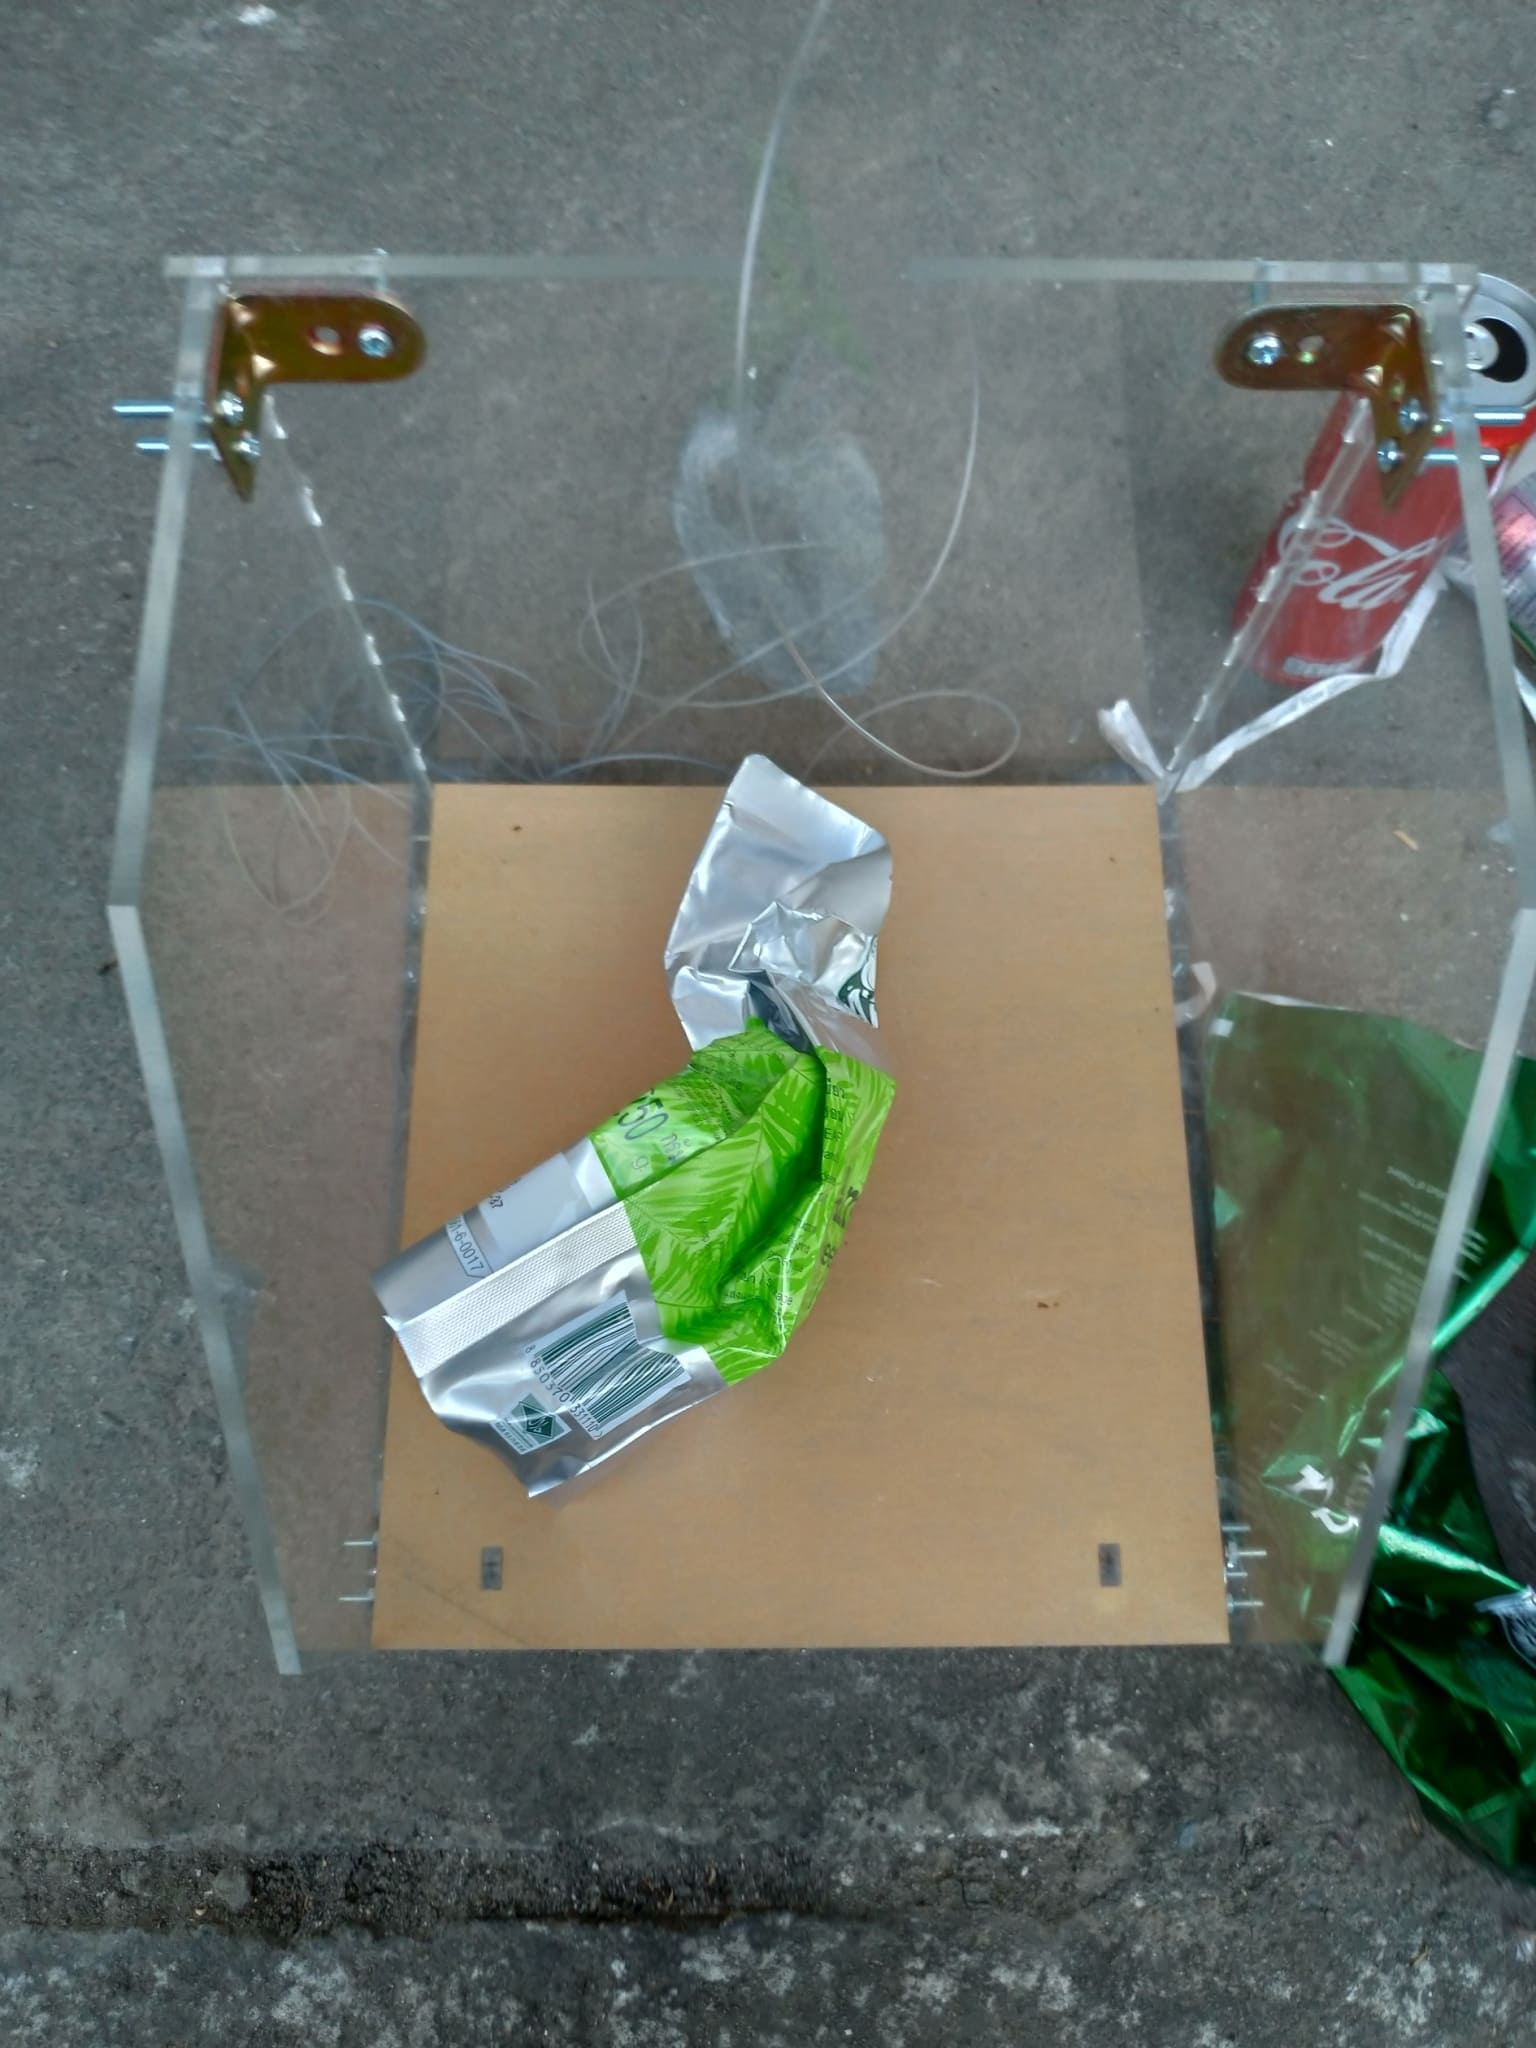AlCan: (1233, 264, 1536, 682)
Others: (379, 742, 897, 1501), (1197, 995, 1533, 1880)
